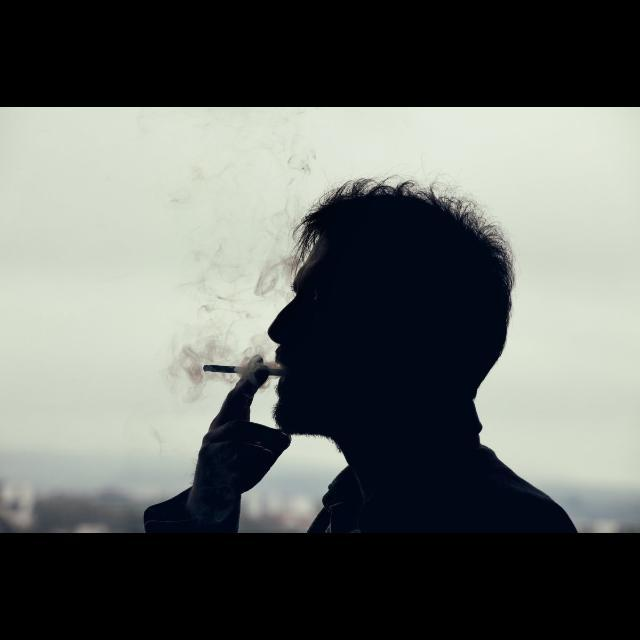rokok: (200, 357, 290, 385)
